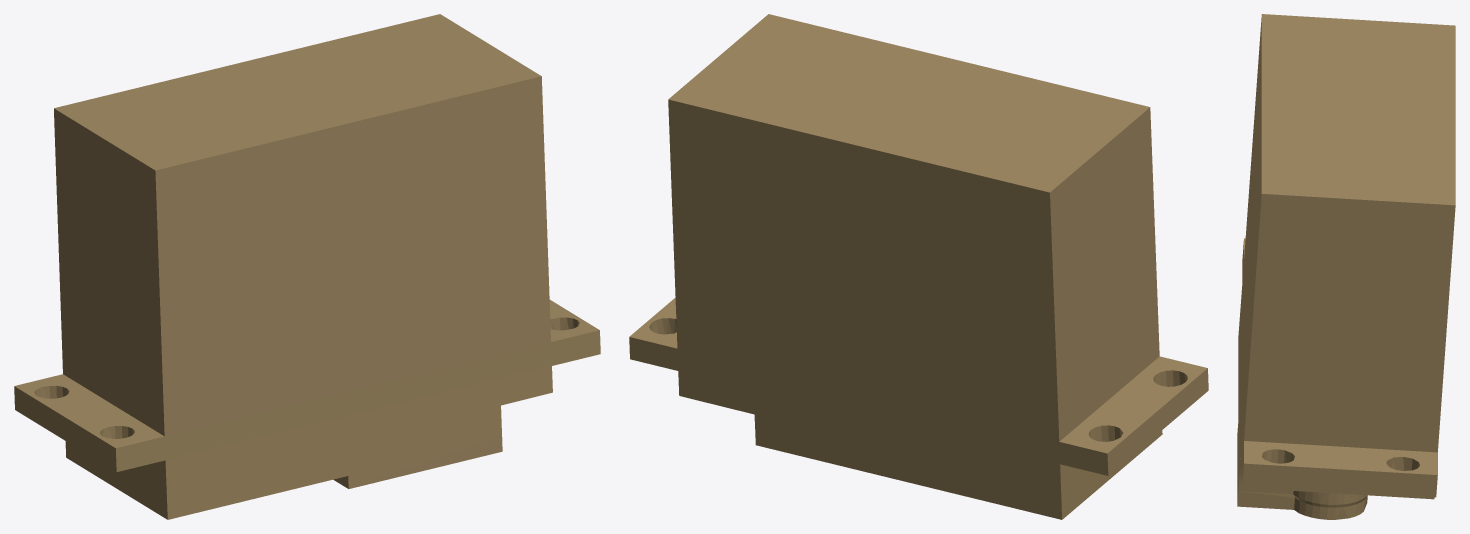
Rendered from Texture.258.dae.light.glb.
3 views of the same model, side by side, from view 1: azimuth 30°, elevation 25°; view 2: azimuth 150°, elevation 25°; view 3: azimuth 270°, elevation 25° (orthographic). The views are drawn at different scales.
Size of the model in its own units: 0.7755 by 0.5533 by 0.3176.
